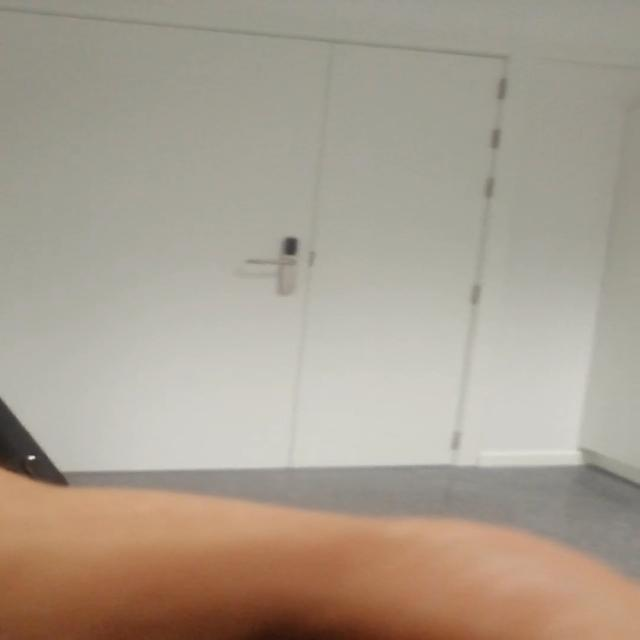door_handle: (232, 256, 308, 271)
